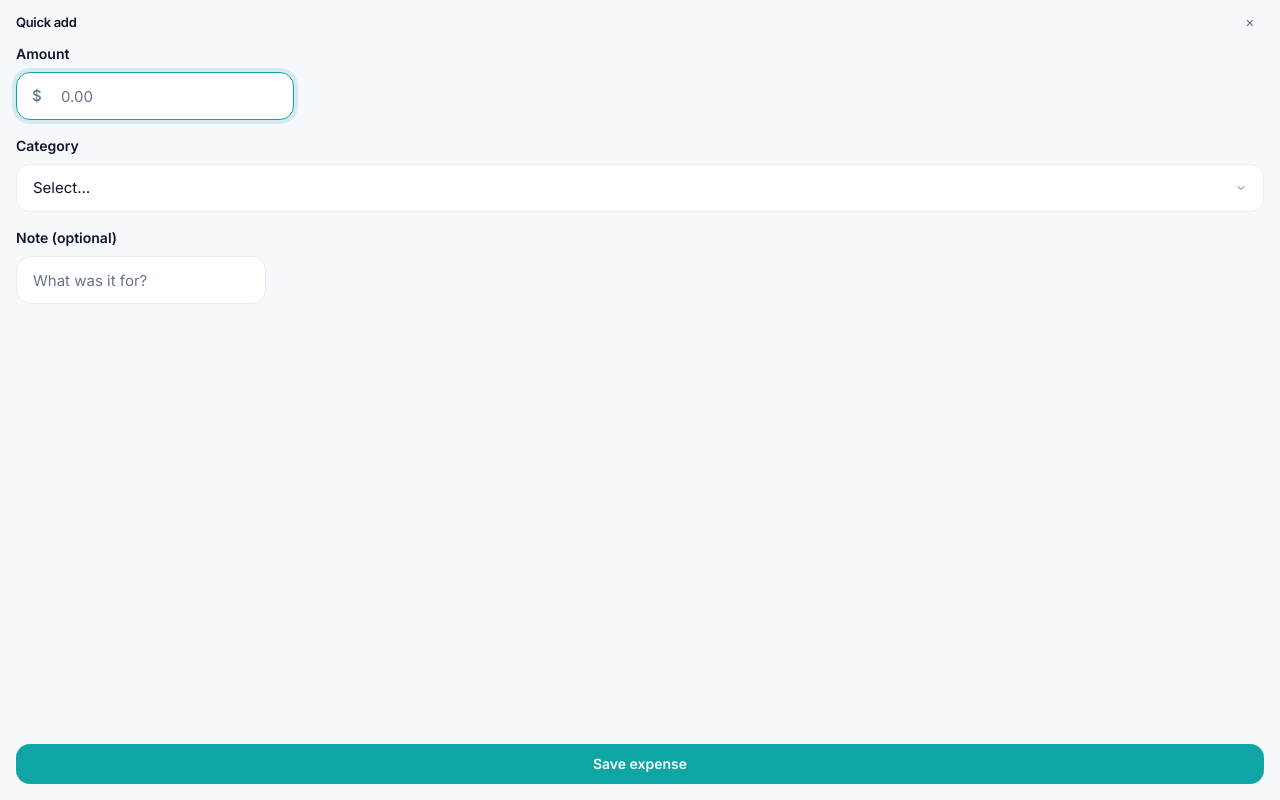
Test: QuickAddPanel (FR-26) › requires a category before writing
This screenshot has width=1280, height=800.
In the field labelled "Amount": x=155, y=96 [16, 72, 294, 120], type "12.50"
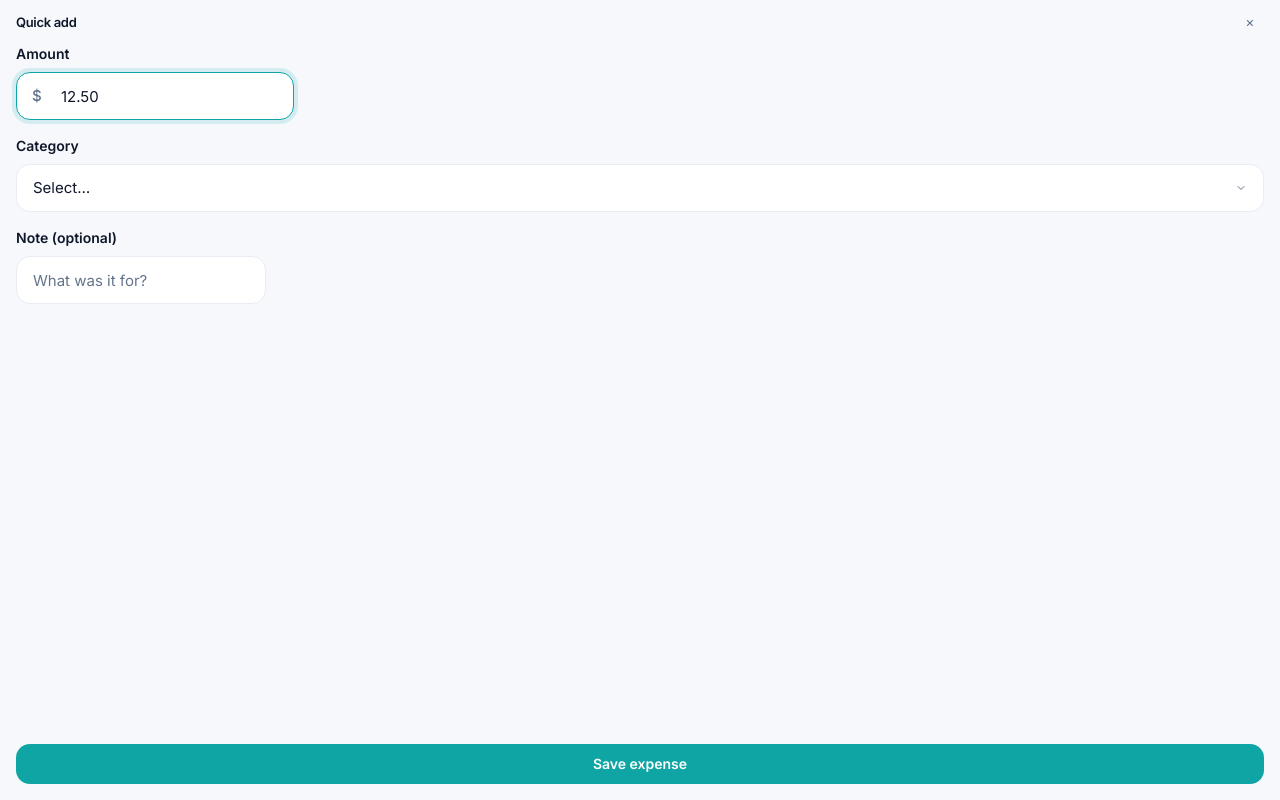
Click the button "Save expense": x=640, y=764 [16, 744, 1264, 784]
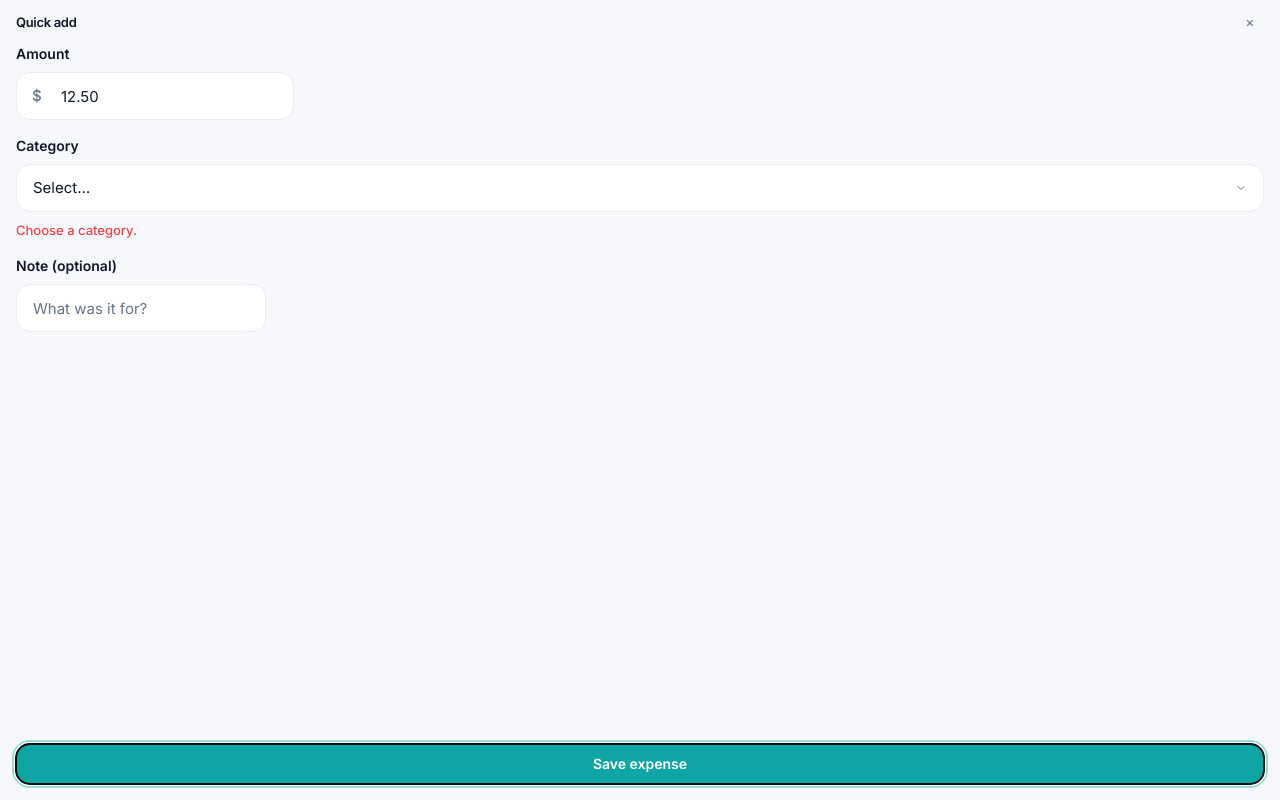
Now the text "Choose a category." is shown, box [16, 222, 137, 238]
